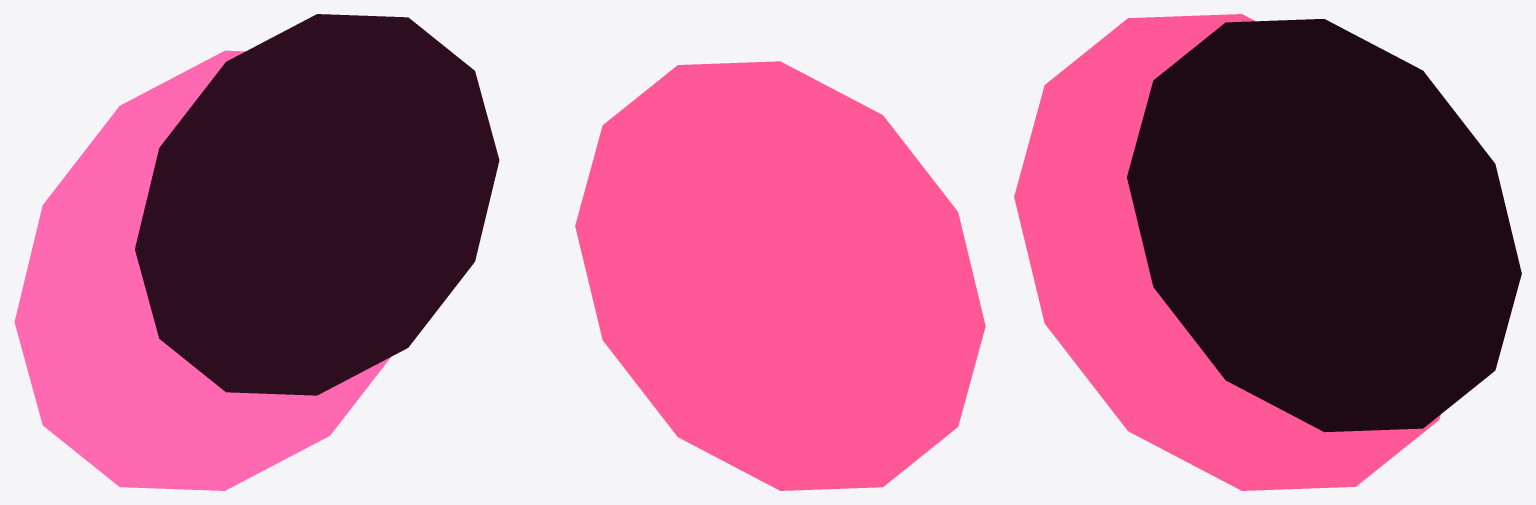
File: moon.glb
3 views of the same model, side by side, from view 1: azimuth 30°, elevation 25°; view 2: azimuth 150°, elevation 25°; view 3: azimuth 330°, elevation 25° (orthographic). The views are drawn at different scales.
Parts seen in each view (by area): view 1: Dark, Moon; view 2: Moon; view 3: Dark, Moon.
Boxes of the visible parts, x1=… form: Dark: x1=135, y1=14, x2=499, y2=395; Moon: x1=14, y1=50, x2=390, y2=490; Moon: x1=575, y1=61, x2=985, y2=490; Dark: x1=1127, y1=19, x2=1521, y2=432; Moon: x1=1014, y1=14, x2=1440, y2=490.
Bounding box in the file's own units: 1.36 × 1.26 × 0.04.
